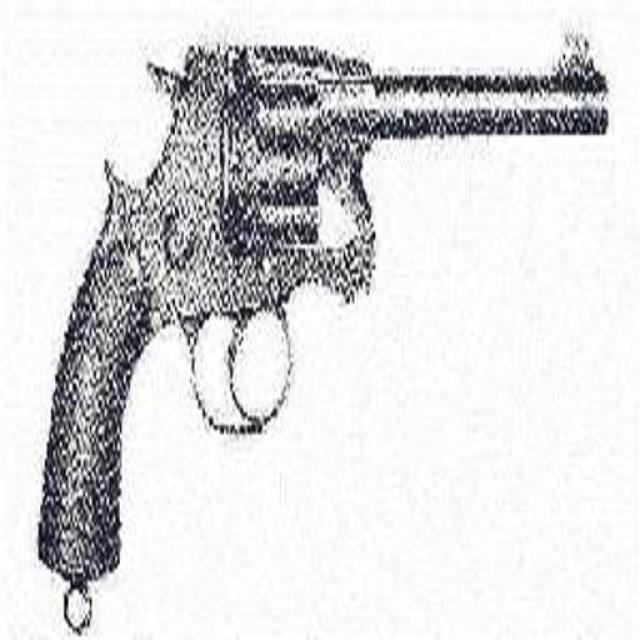pistol: (31, 20, 605, 576)
